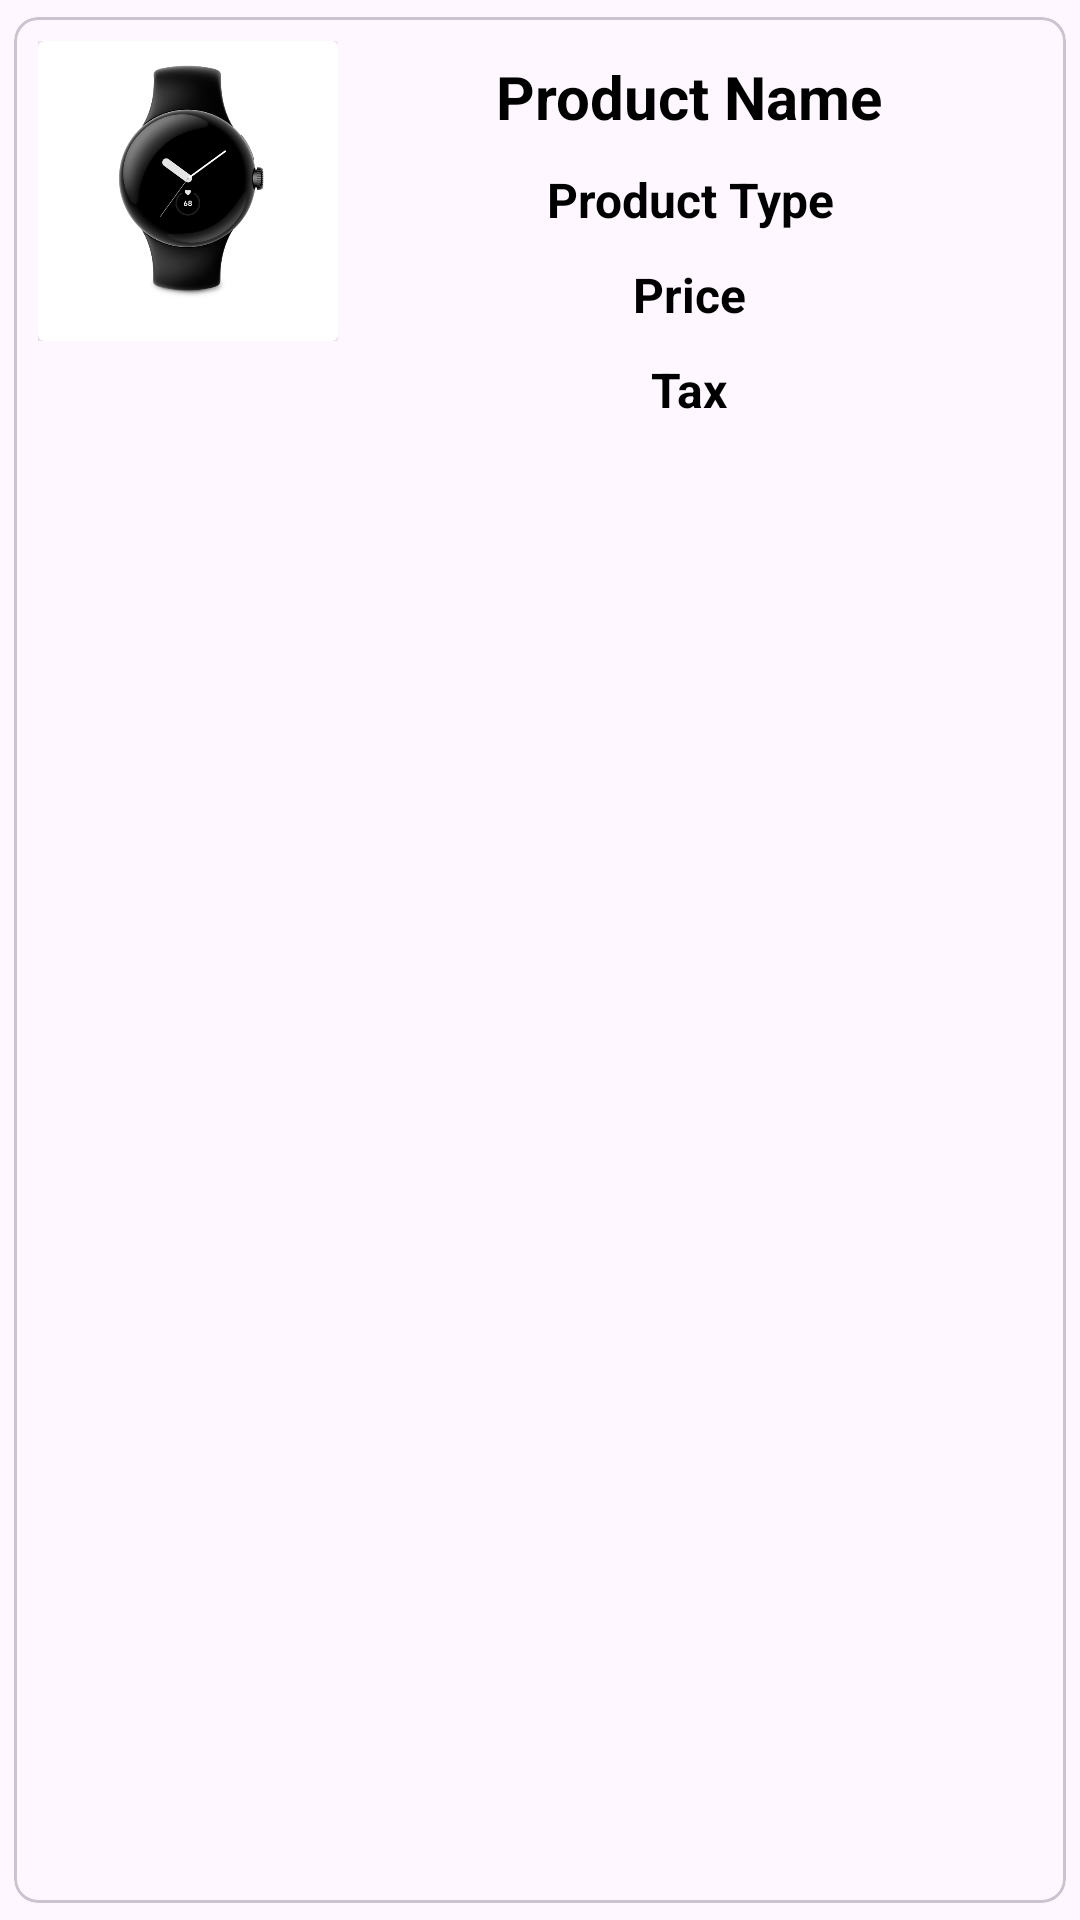

Where icons sit on this 1080×1920 app screen, as bbox=[x1, y1, x2, y2]:
watch: bbox=[38, 41, 338, 341]
